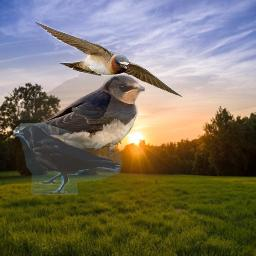Crow: (13, 123, 122, 195)
Swallow: (31, 18, 185, 97), (16, 73, 145, 156)
